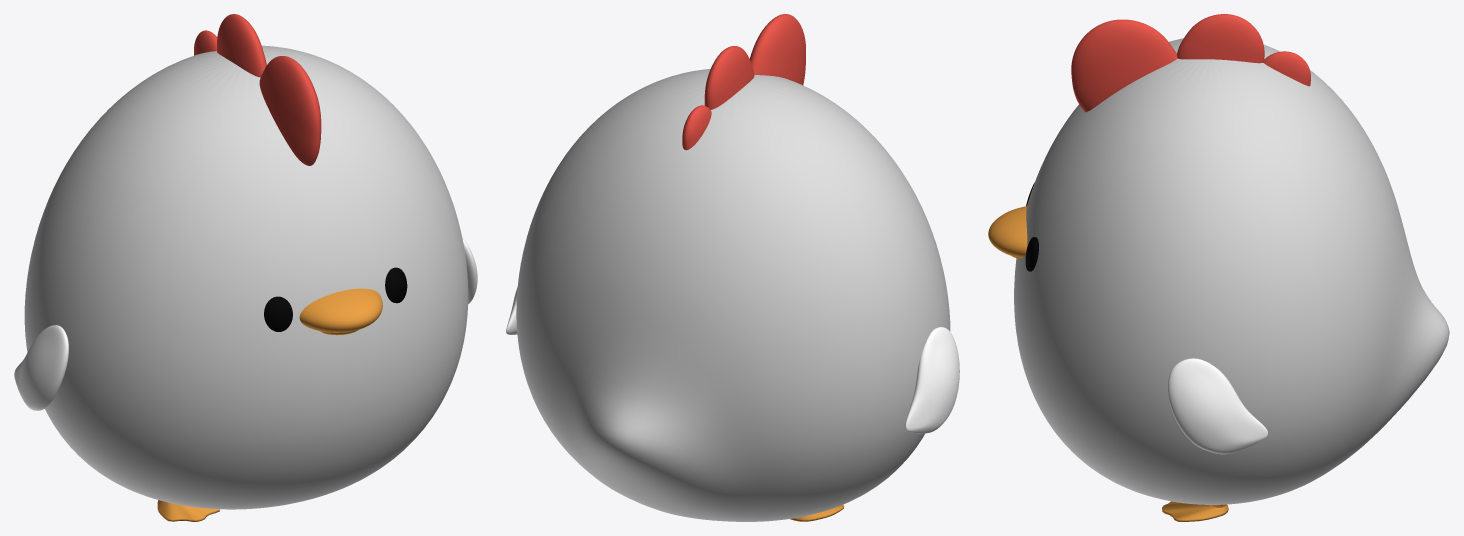
File: chick.glb
3 renders of one model, left to right at view 1: azimuth 30°, elevation 25°; view 2: azimuth 150°, elevation 25°; view 3: azimuth 270°, elevation 25°, orthographic. The views are drawn at different scales.
Parts seen in each view (by area): view 1: bbot; view 2: bbot; view 3: bbot.
Boxes of the visible parts, <box> form: bbot: <box>14,14,477,521</box>; bbot: <box>506,14,959,521</box>; bbot: <box>988,14,1449,521</box>.
Size of the model in its own units: 0.1058 by 0.107 by 0.097.
